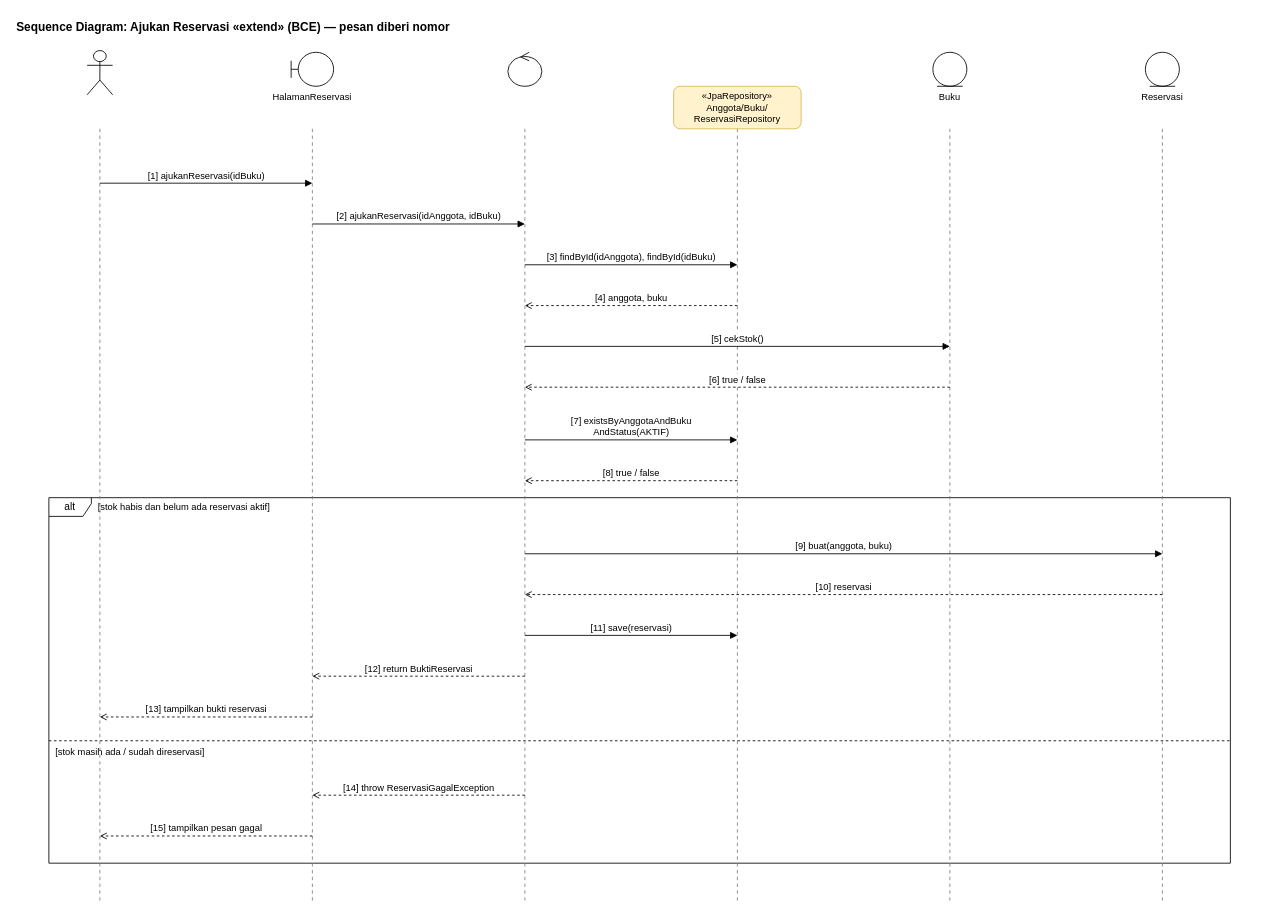
The diagram is 1278 pixels wide and 918 high, and some of its shapes have lost their labels. Each missing label, with the centre of its shape:
"Anggota (aktor)" goes at pixel 99 72.
"«control» ReservasiService" goes at pixel 524 68.
